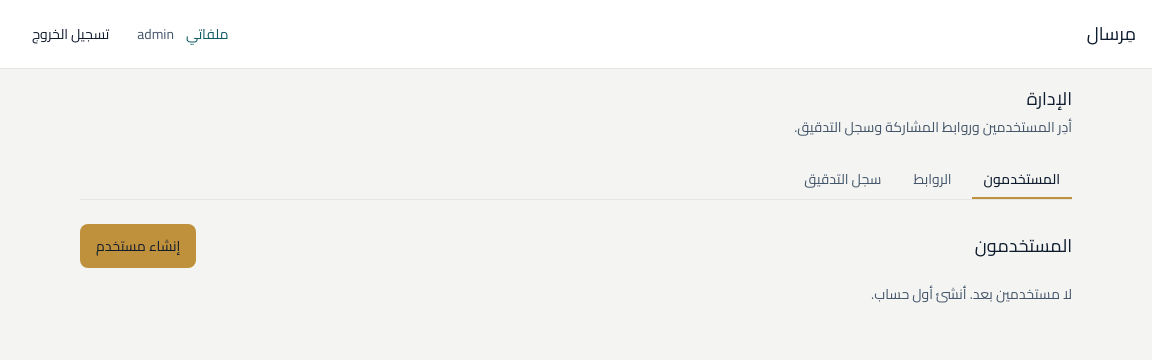
it: Admin — AuditLog (§3.1) › renders resolved actor and target names, not raw ids (Task 5)
Step 1. Click the tab "سجل التدقيق" → (843, 180), box top-left (792, 161), bottom-right (894, 199)
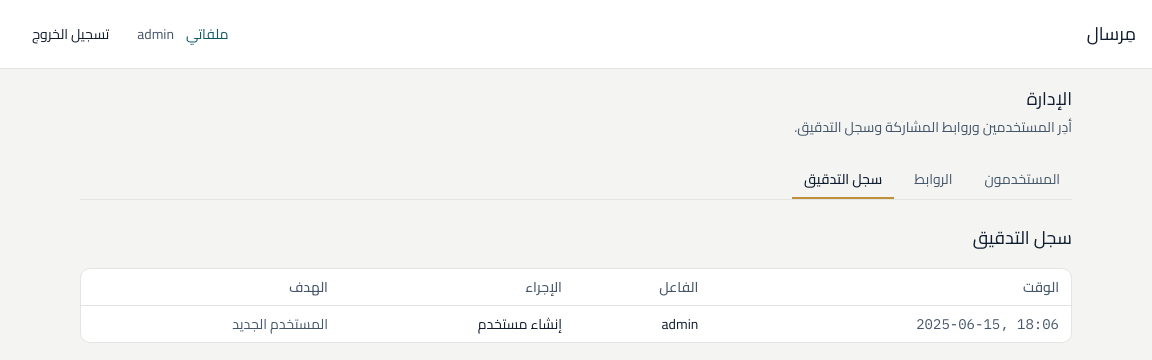
expect the text "admin" in the row of "2025-06-15, 18:06" is shown: met, box top-left (662, 311), bottom-right (698, 337)
expect the text "المستخدم الجديد" is shown: met, box top-left (232, 311), bottom-right (328, 337)
